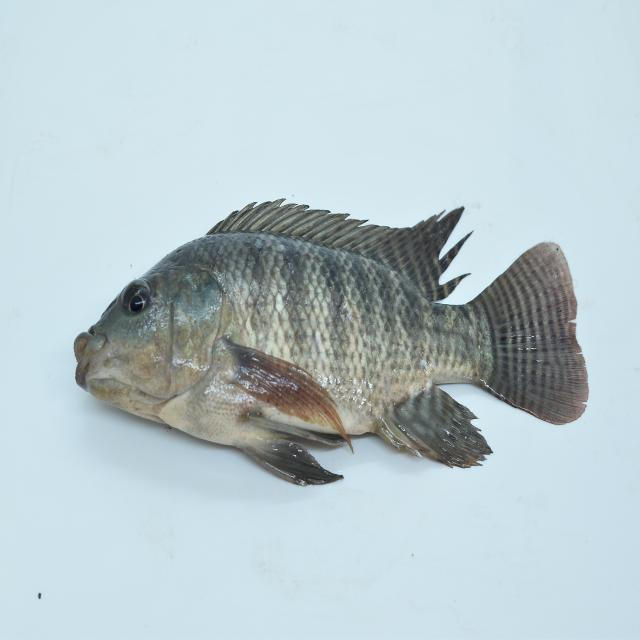Healthy Fish: (72, 195, 591, 487)
